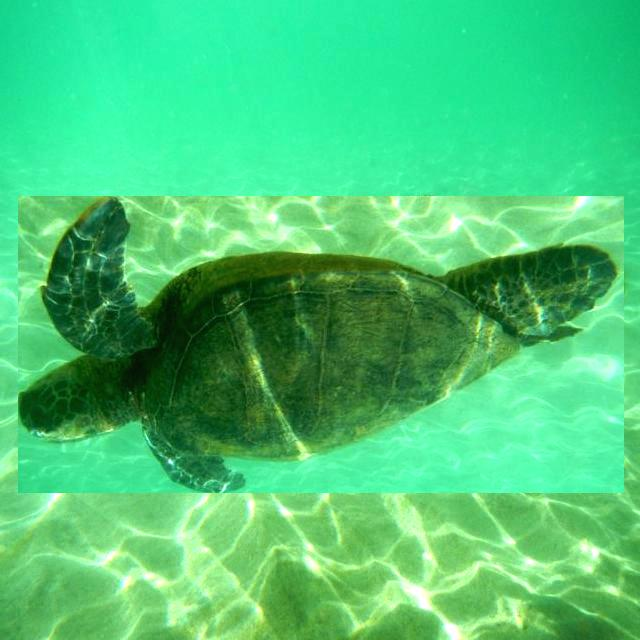Sea turtle: (18, 196, 624, 493)
